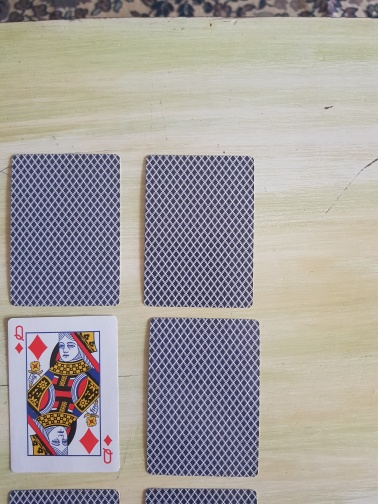queen: (6, 316, 122, 474)
